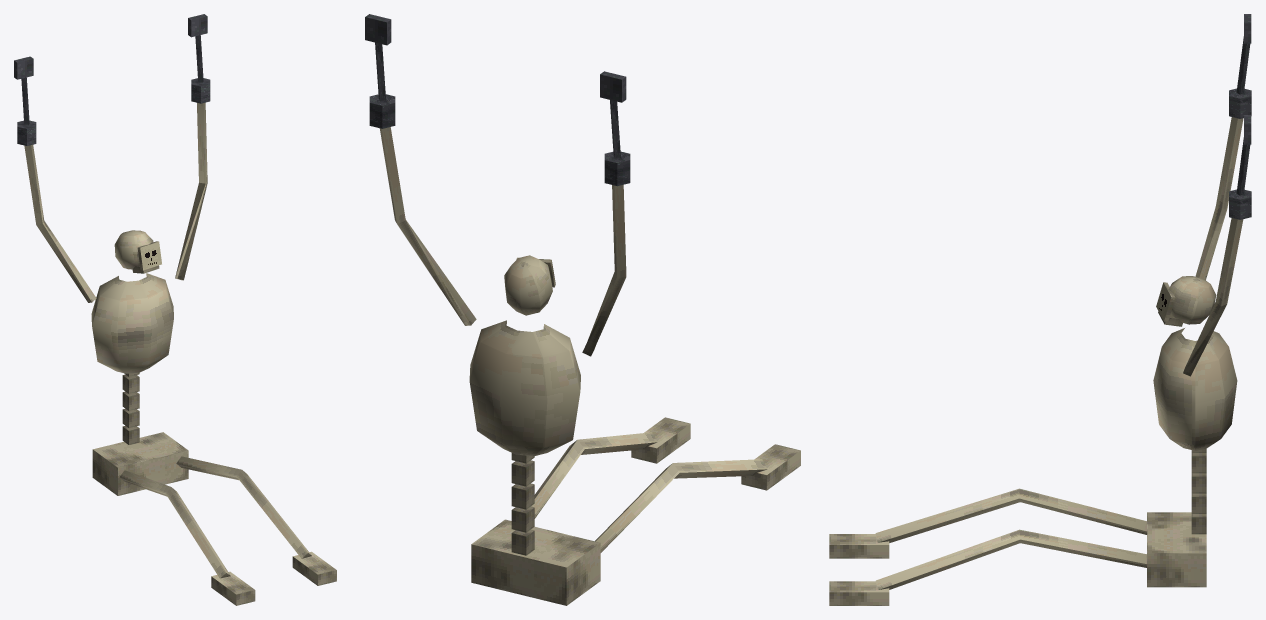
The model's file is skeleton_chained.glb.
3 renders of one model, left to right at view 1: azimuth 30°, elevation 25°; view 2: azimuth 150°, elevation 25°; view 3: azimuth 270°, elevation 25°, orthographic. The views are drawn at different scales.
Visible parts, largest first — view 1: skeleton_chained; view 2: skeleton_chained; view 3: skeleton_chained.
Boxes of the visible parts, x1,y1,x2,y2 form: skeleton_chained: (14, 14, 336, 605); skeleton_chained: (365, 14, 800, 605); skeleton_chained: (829, 14, 1251, 605).
Bounding box in the file's own units: 0.71 × 1.5 × 1.13.
1 material, 1 textured.
